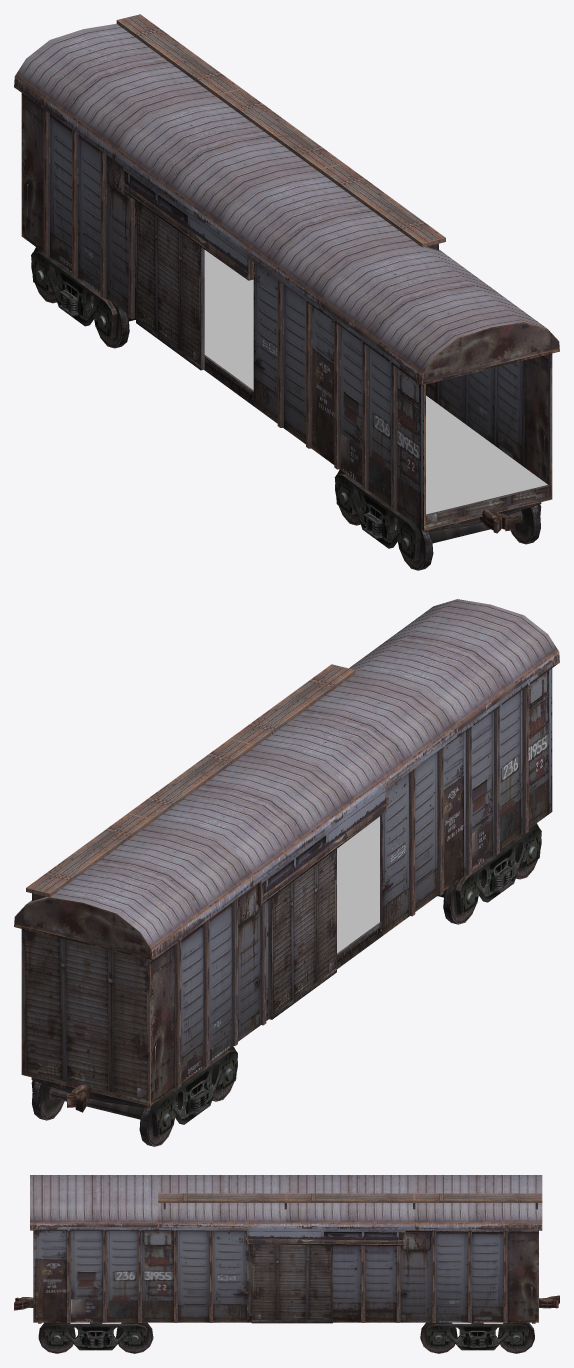
Rendered from vagon.FBX.
The picture shows the model from 3 angles, top to bottom: view 1: azimuth 30°, elevation 25°; view 2: azimuth 150°, elevation 25°; view 3: azimuth 270°, elevation 25°; orthographic projection. The views are drawn at different scales.
Parts seen in each view (by area): view 1: train_vagon_02_open_krash; view 2: train_vagon_02_open_krash; view 3: train_vagon_02_open_krash.
Part boxes in pixels (<box>): train_vagon_02_open_krash: <box>14,14,559,570</box>; train_vagon_02_open_krash: <box>14,599,559,1146</box>; train_vagon_02_open_krash: <box>14,1175,559,1353</box>.
Size of the model in its own units: 2.49 by 4.19 by 13.51.
